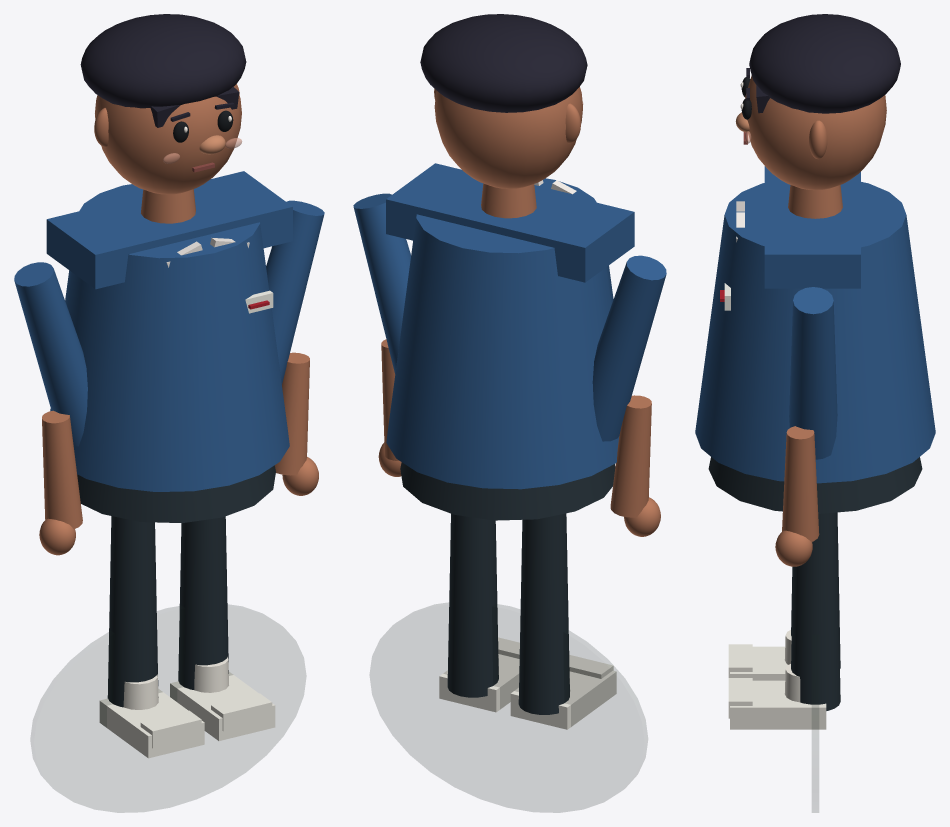
Rendered from staff_04_dermo.glb.
3 renders of one model, left to right at view 1: azimuth 30°, elevation 25°; view 2: azimuth 150°, elevation 25°; view 3: azimuth 270°, elevation 25°, orthographic. The views are drawn at different scales.
Visible parts, largest first — view 1: torso, contact_shadow, shoulder_line, hair_cap, head, leg_-0.075, leg_0.075, upper_arm_-0.235, hip, upper_arm_0.235, forearm_-0.235, shoe_-0.075 (+9 smaller); view 2: torso, contact_shadow, hair_cap, shoulder_line, leg_-0.075, head, leg_0.075, upper_arm_-0.235, hip, upper_arm_0.235, forearm_-0.235, shoe_-0.075 (+5 smaller); view 3: torso, hair_cap, head, shoulder_line, leg_0.075, upper_arm_0.235, hip, forearm_0.235, shoe_0.075, neck, shoe_-0.075, contact_shadow (+5 smaller).
Part boxes in pixels (bbox=[...]): torso: bbox=[50, 184, 289, 491]; contact_shadow: bbox=[31, 605, 305, 812]; shoulder_line: bbox=[46, 171, 292, 289]; hair_cap: bbox=[80, 14, 246, 108]; head: bbox=[95, 84, 241, 194]; leg_-0.075: bbox=[107, 516, 158, 707]; leg_0.075: bbox=[178, 516, 228, 689]; upper_arm_-0.235: bbox=[14, 262, 87, 446]; hip: bbox=[77, 465, 275, 523]; upper_arm_0.235: bbox=[266, 200, 324, 384]; forearm_-0.235: bbox=[42, 410, 82, 529]; shoe_-0.075: bbox=[99, 689, 204, 758]; torso: bbox=[386, 178, 619, 489]; contact_shadow: bbox=[370, 603, 647, 812]; hair_cap: bbox=[420, 14, 587, 112]; shoulder_line: bbox=[386, 163, 634, 282]; leg_-0.075: bbox=[518, 513, 569, 714]; head: bbox=[434, 87, 582, 188]; leg_0.075: bbox=[447, 513, 498, 697]; upper_arm_-0.235: bbox=[592, 255, 666, 441]; hip: bbox=[400, 462, 615, 520]; upper_arm_0.235: bbox=[353, 193, 410, 373]; forearm_-0.235: bbox=[610, 395, 651, 517]; shoe_-0.075: bbox=[510, 670, 616, 729]; torso: bbox=[695, 182, 935, 483]; hair_cap: bbox=[749, 14, 900, 113]; head: bbox=[745, 75, 886, 190]; shoulder_line: bbox=[764, 166, 860, 288]; leg_0.075: bbox=[791, 512, 840, 710]; upper_arm_0.235: bbox=[789, 287, 837, 459]; hip: bbox=[708, 457, 922, 513]; forearm_0.235: bbox=[782, 426, 819, 541]; shoe_0.075: bbox=[730, 680, 826, 729]; neck: bbox=[788, 185, 842, 218]; shoe_-0.075: bbox=[730, 646, 787, 680]; contact_shadow: bbox=[812, 635, 818, 812].
Size of the model in its own units: 0.6685 by 1.62 by 0.4635.
